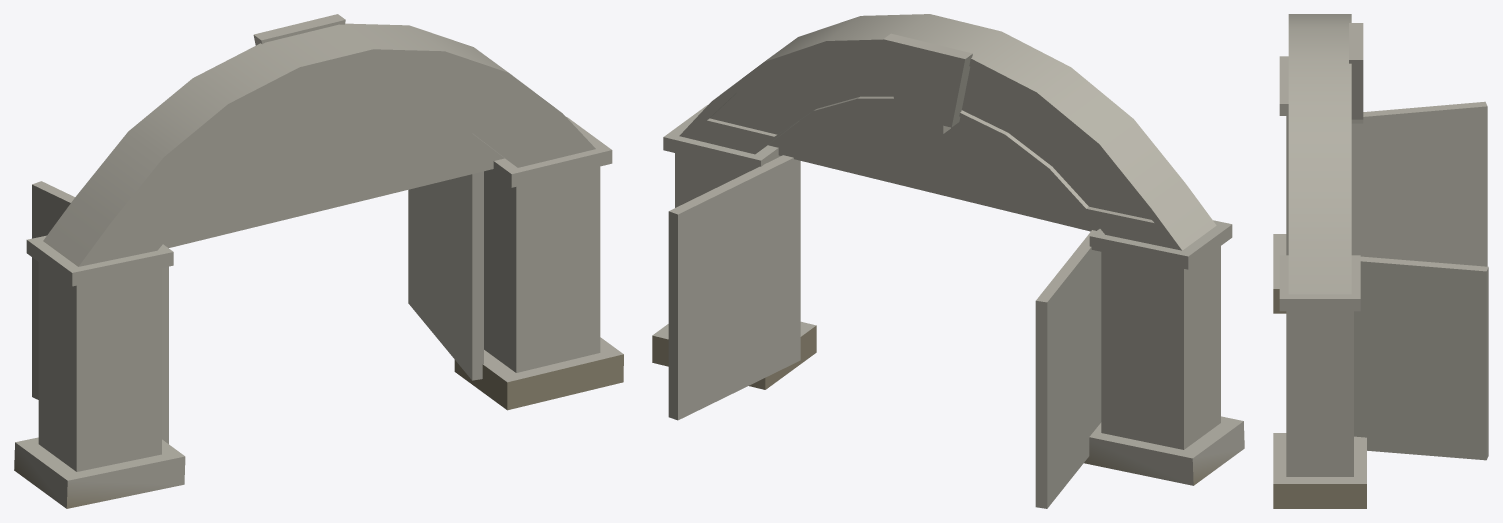
3 renders of one model, left to right at view 1: azimuth 30°, elevation 25°; view 2: azimuth 150°, elevation 25°; view 3: azimuth 270°, elevation 25°, orthographic. The views are drawn at different scales.
Visible parts, largest first — view 1: pCube61:PIV; view 2: pCube61:PIV; view 3: pCube61:PIV.
Part boxes in pixels (x1=…): pCube61:PIV: x1=14, y1=14, x2=623, y2=508; pCube61:PIV: x1=652, y1=14, x2=1244, y2=508; pCube61:PIV: x1=1273, y1=14, x2=1488, y2=508.
Bounding box in the file's own units: 9.09 × 6.06 × 3.41.
